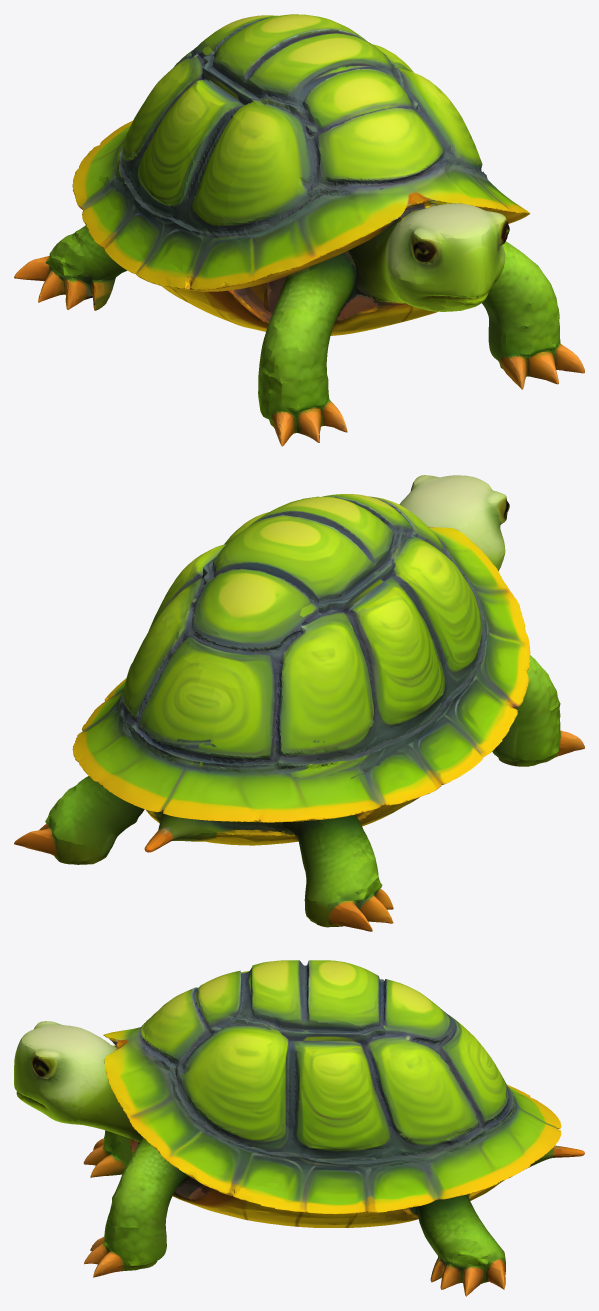
File: TORTUGA.glb
3 renders of one model, top to bottom at view 1: azimuth 30°, elevation 25°; view 2: azimuth 150°, elevation 25°; view 3: azimuth 270°, elevation 25°, orthographic. The views are drawn at different scales.
Visible parts, largest first — view 1: model; view 2: model; view 3: model.
Part boxes in pixels (x1=…): model: x1=14, y1=14, x2=584, y2=446; model: x1=14, y1=475, x2=584, y2=931; model: x1=14, y1=960, x2=584, y2=1296.
Size of the model in its own units: 1.18 by 0.9316 by 1.89.
1 material, 1 textured.
